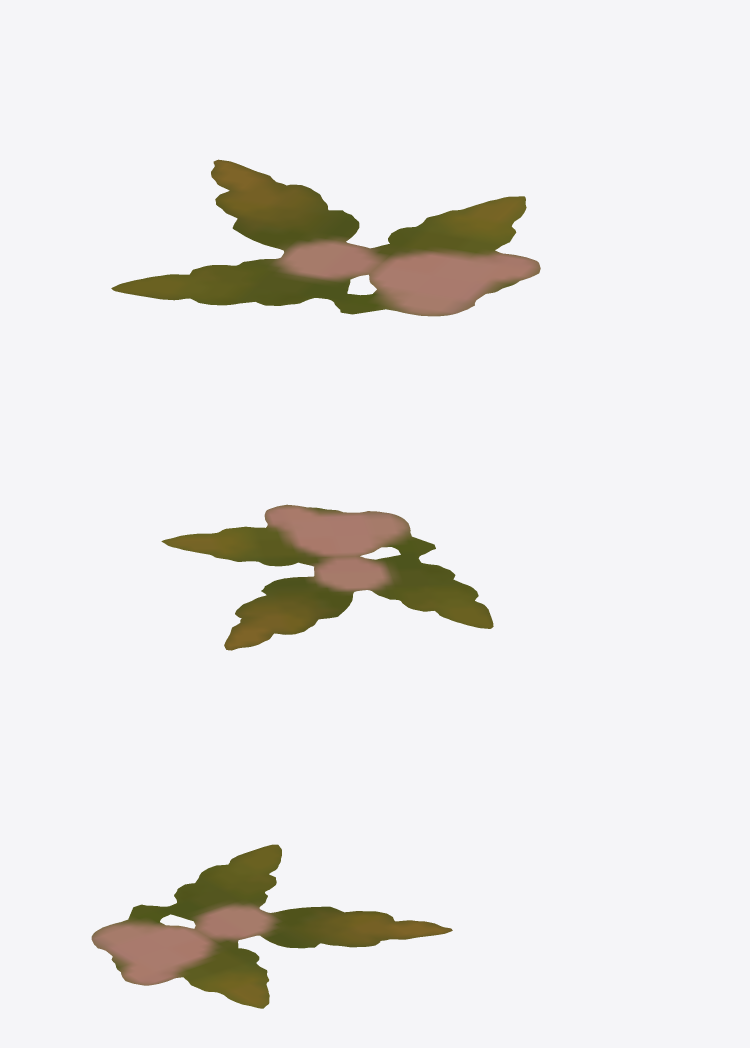
The model's file is flower_02.fbx.
3 renders of one model, top to bottom at view 1: azimuth 30°, elevation 25°; view 2: azimuth 150°, elevation 25°; view 3: azimuth 270°, elevation 25°, orthographic. The views are drawn at different scales.
Visible parts, largest first — view 1: obj0.032; view 2: obj0.032; view 3: obj0.032.
Boxes of the visible parts, left/top/right/bottom form: obj0.032: left=111, top=159, right=540, bottom=316; obj0.032: left=161, top=504, right=493, bottom=650; obj0.032: left=91, top=844, right=452, bottom=1008.
Bounding box in the file's own units: 1.52 × 4.33e-05 × 1.72.
